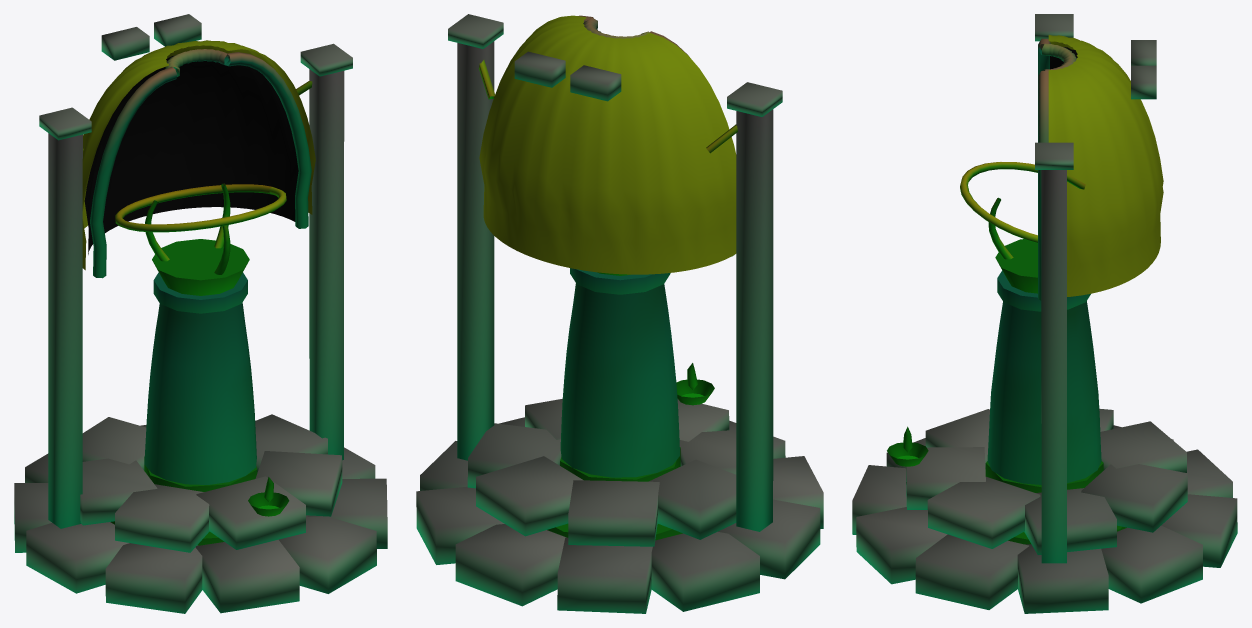
File: save_shrine.glb
The picture shows the model from 3 angles, left to right: view 1: azimuth 30°, elevation 25°; view 2: azimuth 150°, elevation 25°; view 3: azimuth 270°, elevation 25°; orthographic projection. The views are drawn at different scales.
Visible parts, largest first — view 1: save_shrine; view 2: save_shrine; view 3: save_shrine.
Boxes of the visible parts, x1,y1,x2,y2 form: save_shrine: [14, 14, 387, 613]; save_shrine: [416, 14, 823, 613]; save_shrine: [852, 14, 1237, 613].
Size of what is drawn, in the model's own units: 2.01 by 2.79 by 2.02.
